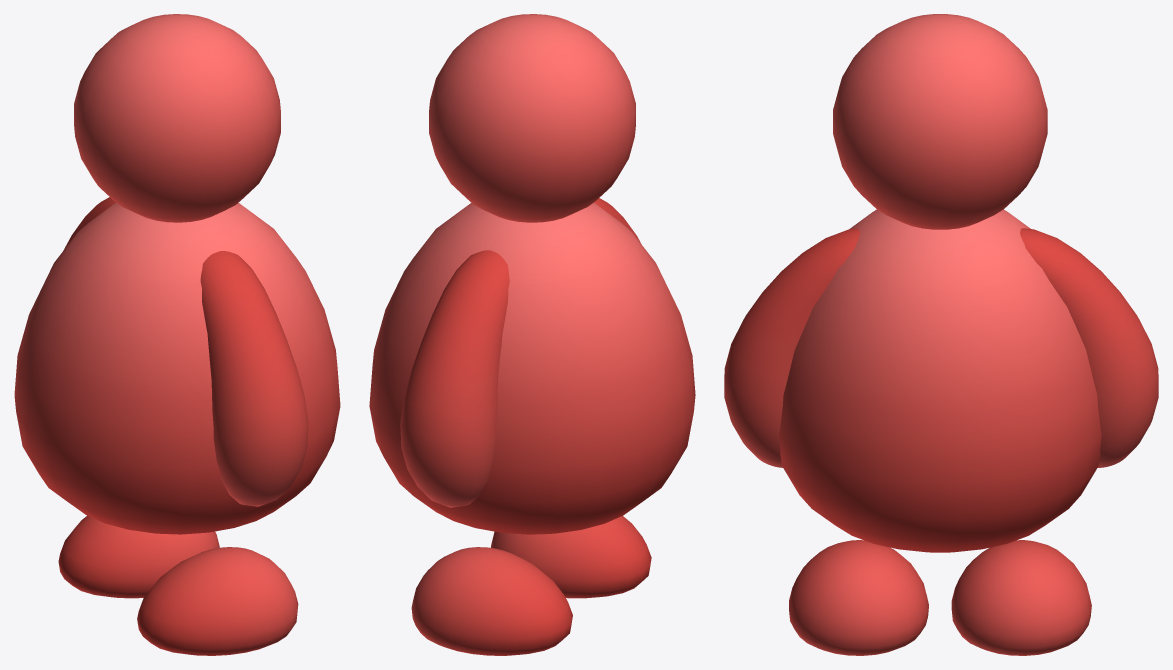
The model's file is SM_Monito.fbx.
3 renders of one model, left to right at view 1: azimuth 30°, elevation 25°; view 2: azimuth 150°, elevation 25°; view 3: azimuth 270°, elevation 25°, orthographic. The views are drawn at different scales.
Visible parts, largest first — view 1: Monito; view 2: Monito; view 3: Monito.
Part boxes in pixels (left/top/right/bottom): Monito: left=14, top=14, right=340, bottom=655; Monito: left=369, top=14, right=695, bottom=655; Monito: left=724, top=14, right=1158, bottom=655.
Size of the model in its own units: 18.77 by 37.33 by 24.24.
Materials: 1 (1 with a texture image).
